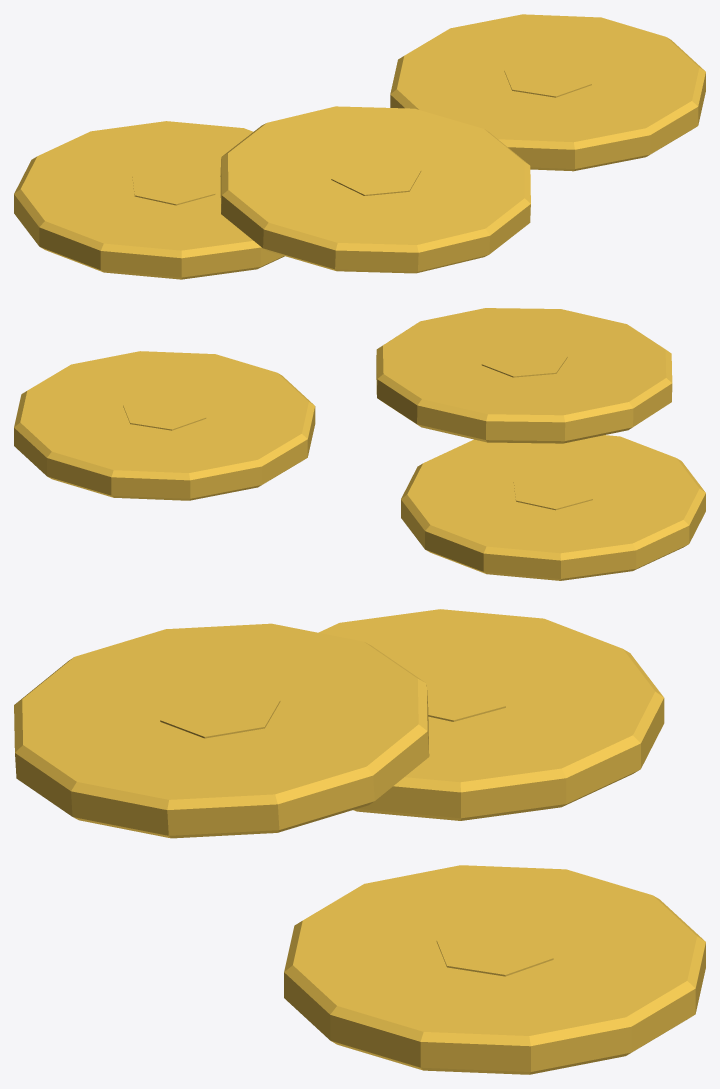
Rendered from gold_tiny.glb.
The picture shows the model from 3 angles, top to bottom: view 1: azimuth 30°, elevation 25°; view 2: azimuth 150°, elevation 25°; view 3: azimuth 270°, elevation 25°; orthographic projection. The views are drawn at different scales.
Parts seen in each view (by area): view 1: Gold_Tiny_Gold; view 2: Gold_Tiny_Gold; view 3: Gold_Tiny_Gold.
Boxes of the visible parts, bbox=[...] form: Gold_Tiny_Gold: bbox=[14, 14, 705, 279]; Gold_Tiny_Gold: bbox=[14, 308, 705, 580]; Gold_Tiny_Gold: bbox=[14, 609, 705, 1074].
Size of the model in its own units: 0.0576 by 0.00682 by 0.0388.
